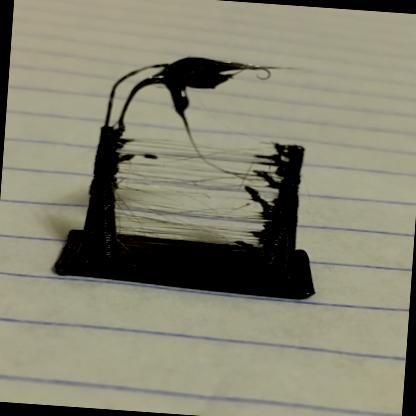fail: (110, 138, 298, 253)
